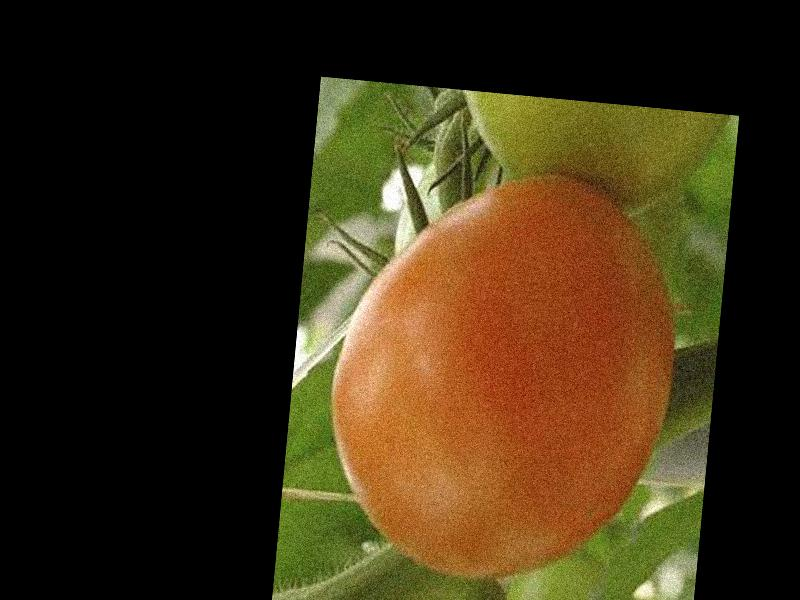Tomato: (314, 157, 689, 594)
